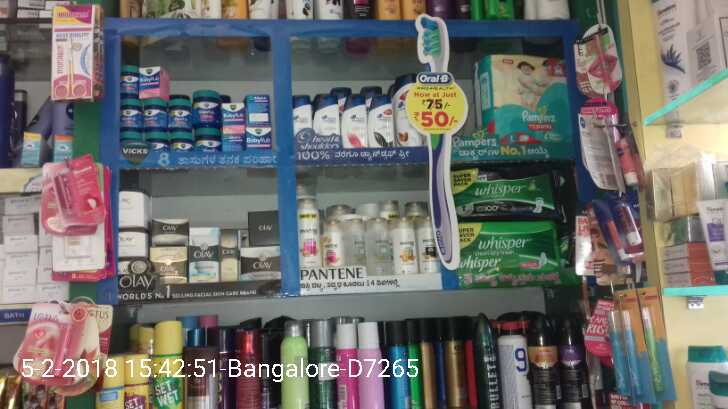vicks: (117, 60, 278, 154)
